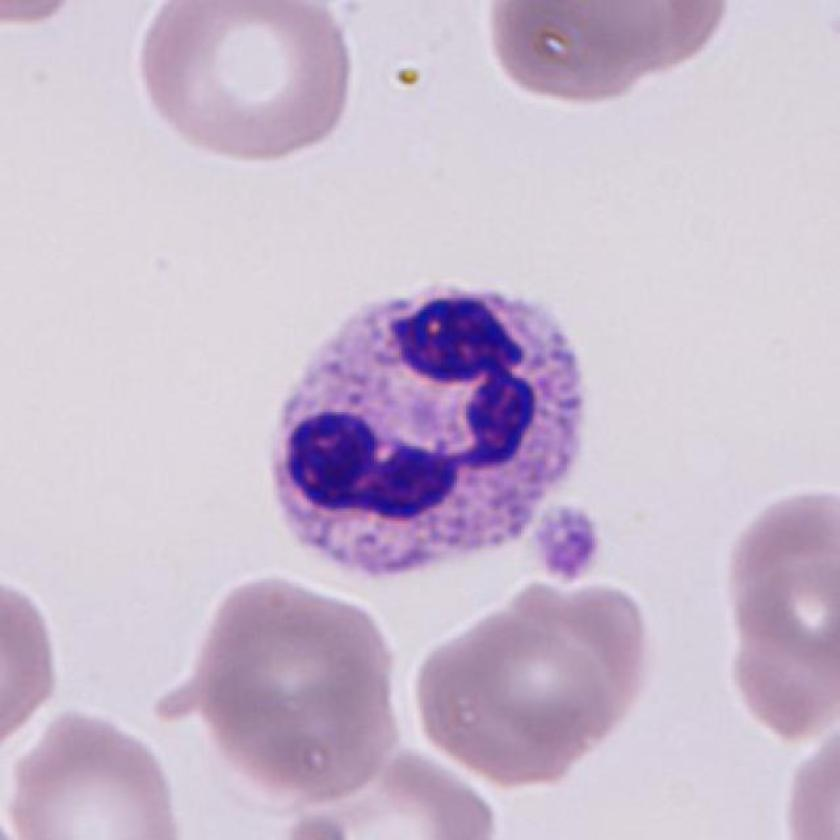neutrophil: (274, 286, 590, 575)
